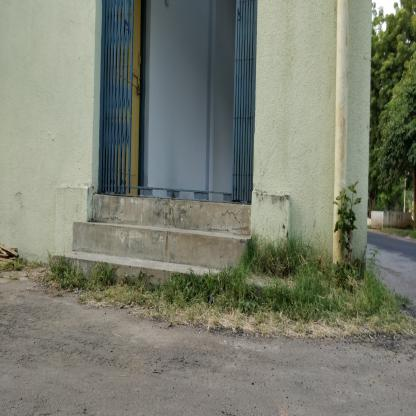stairs: (90, 204, 236, 311)
